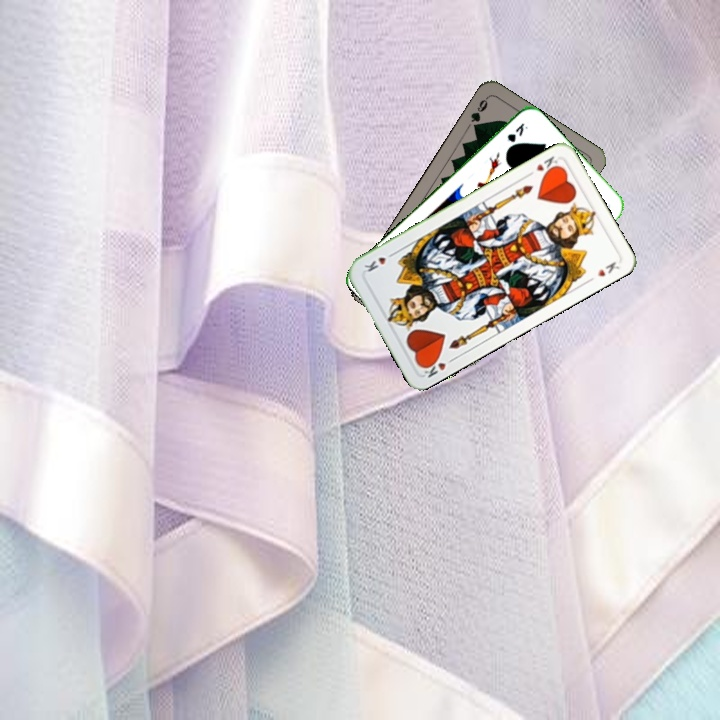G9: (466, 93, 491, 133)
GK: (502, 118, 530, 145)
HK: (417, 353, 458, 380), (523, 152, 561, 179)
